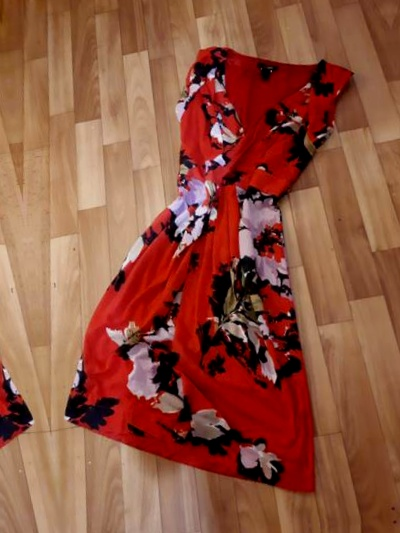Dress: (16, 10, 400, 520), (0, 55, 49, 533)
